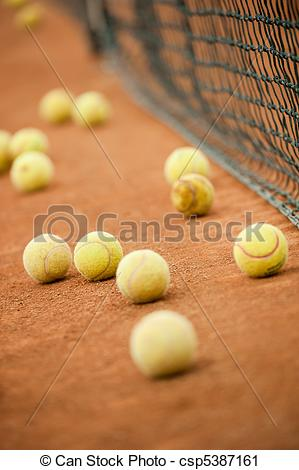tennis_ball: (130, 311, 197, 379), (234, 225, 288, 279), (72, 232, 123, 282), (117, 249, 167, 299), (24, 234, 71, 282), (8, 151, 55, 194), (171, 174, 214, 217), (165, 148, 209, 182), (38, 88, 76, 127), (72, 92, 111, 127), (11, 129, 47, 153), (1, 127, 13, 175)
